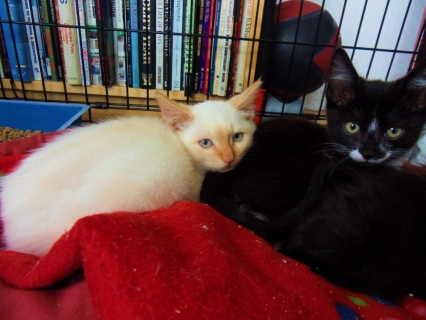Cat: (197, 45, 426, 304), (0, 78, 265, 260)
